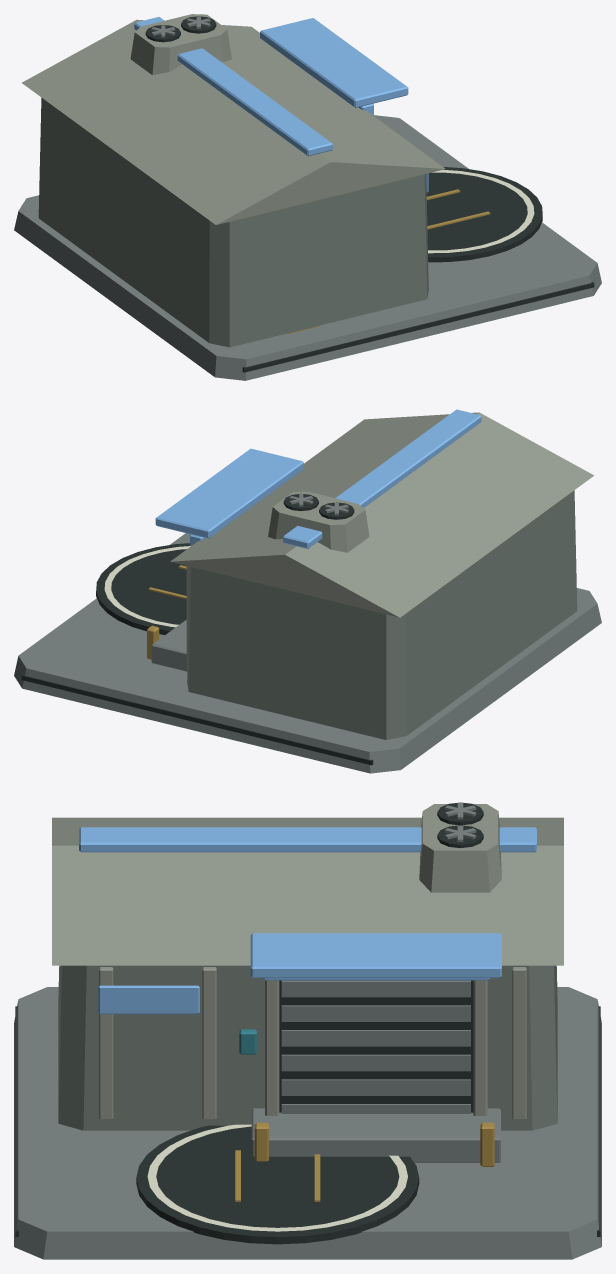
File: supply_center.glb
3 renders of one model, top to bottom at view 1: azimuth 30°, elevation 25°; view 2: azimuth 150°, elevation 25°; view 3: azimuth 270°, elevation 25°, orthographic. The views are drawn at different scales.
Parts seen in each view (by area): view 1: supply_center; view 2: supply_center; view 3: supply_center.
Boxes of the visible parts, <box> form: supply_center: <box>14,14,601,380</box>; supply_center: <box>14,409,601,773</box>; supply_center: <box>14,802,601,1259</box>.
Bounding box in the file's own units: 3.85 × 1.87 × 3.7.
